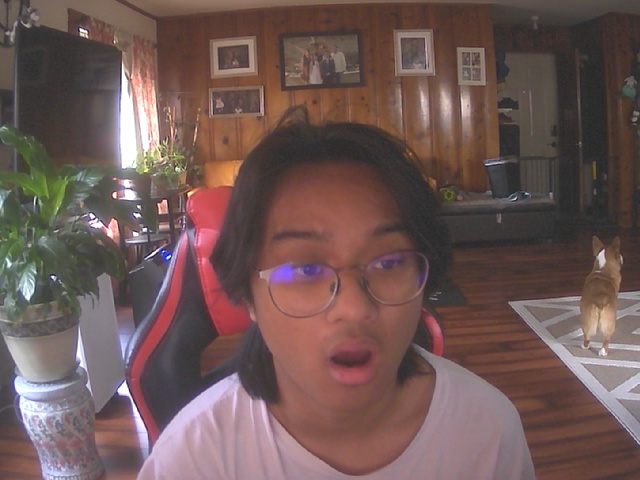fear: (242, 138, 443, 414)
